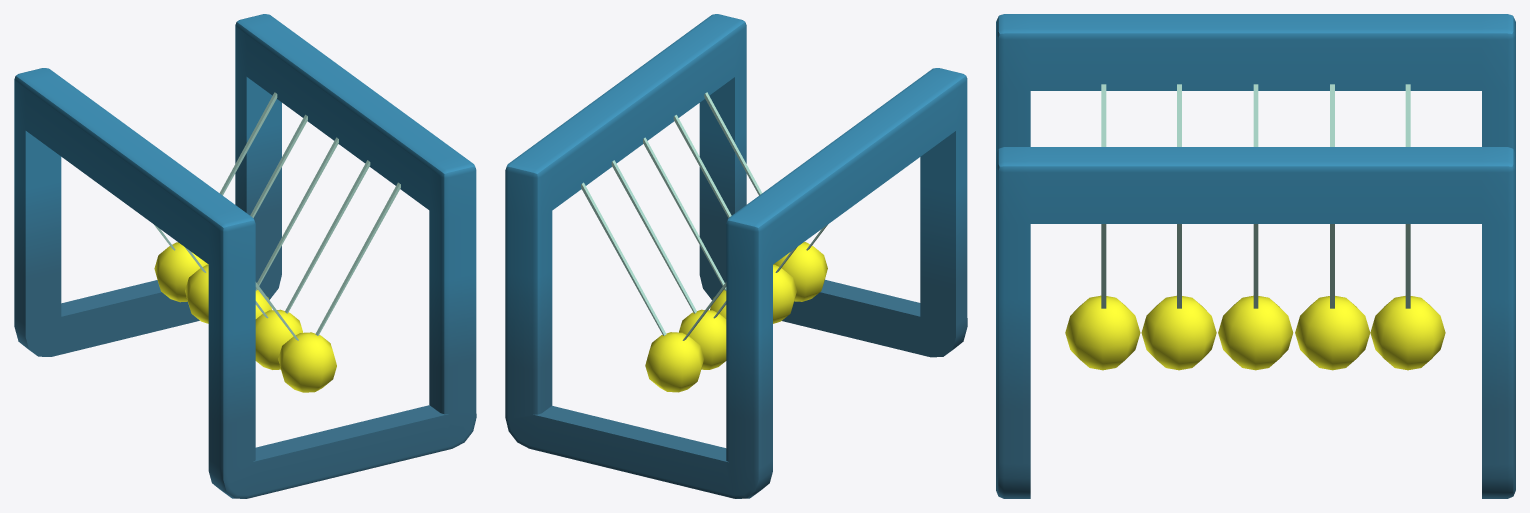
File: island9.defense3.fbx
3 renders of one model, left to right at view 1: azimuth 30°, elevation 25°; view 2: azimuth 150°, elevation 25°; view 3: azimuth 270°, elevation 25°, orthographic. The views are drawn at different scales.
Parts seen in each view (by area): view 1: island9-defense3, island9-defense3.01, island9-defense3.02, island9-defense3.05, island9-defense3.04, island9-defense3.03; view 2: island9-defense3, island9-defense3.05, island9-defense3.04, island9-defense3.01, island9-defense3.02, island9-defense3.03; view 3: island9-defense3, island9-defense3.01, island9-defense3.05, island9-defense3.03, island9-defense3.02, island9-defense3.04.
Boxes of the visible parts, box(x1,y1,x2,y2) form: island9-defense3: box(14, 14, 476, 498); island9-defense3.01: box(255, 182, 400, 392); island9-defense3.02: box(255, 160, 370, 369); island9-defense3.05: box(154, 92, 277, 302); island9-defense3.04: box(185, 114, 307, 323); island9-defense3.03: box(255, 137, 338, 318); island9-defense3: box(505, 14, 967, 498); island9-defense3.05: box(581, 182, 726, 392); island9-defense3.04: box(611, 160, 726, 369); island9-defense3.01: box(704, 92, 827, 301); island9-defense3.02: box(673, 114, 796, 323); island9-defense3.03: box(643, 137, 726, 318); island9-defense3: box(996, 14, 1515, 498); island9-defense3.01: box(1065, 84, 1140, 370); island9-defense3.05: box(1370, 84, 1445, 370); island9-defense3.03: box(1218, 84, 1293, 370); island9-defense3.02: box(1141, 84, 1216, 370); island9-defense3.04: box(1295, 84, 1370, 370).
Size of the model in its own units: 2.75 by 2.87 by 3.91.
Materials: 1 (1 with a texture image).
